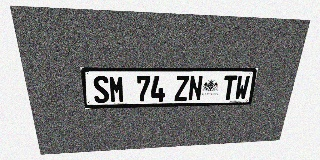4: (151, 76, 165, 102)
7: (136, 76, 150, 102)
M: (108, 76, 125, 103)
N: (188, 75, 203, 101)
S: (92, 76, 110, 103)
T: (221, 75, 237, 100)
W: (234, 75, 250, 100)
Z: (174, 75, 189, 101)
